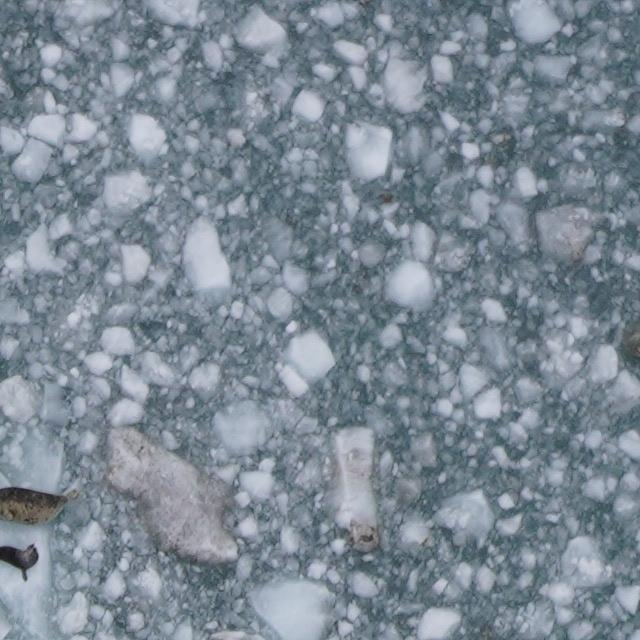seal: (0, 483, 87, 530), (0, 539, 43, 586)
